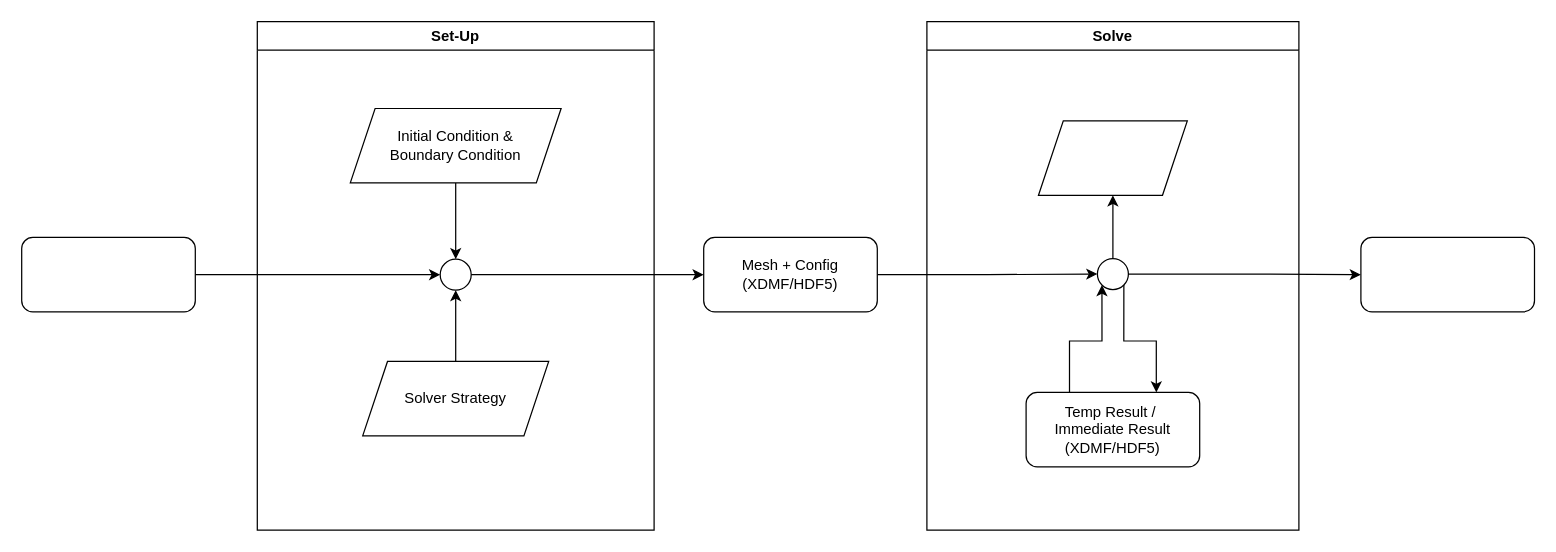
The diagram is 1556 pixels wide and 552 high, and some of its shapes have lost their labels. The shapes that lost their labels are listed below. From the top down, each one's centre as x and y in pixels, then its label:
At point 1112,157: "Progress Log".
At point 107,274: "Mesh (XDMF/HDF5)".
At point 1447,274: "Result (XDMF/HDF5)".
